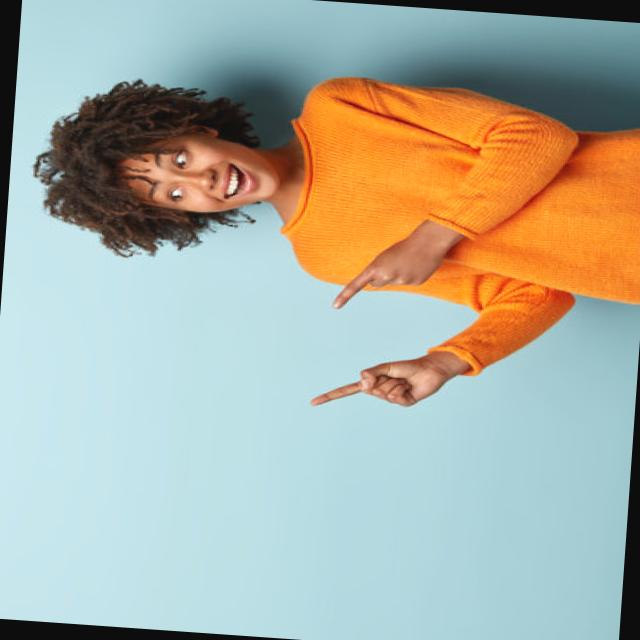Hand: (306, 341, 459, 421), (327, 223, 452, 319)
